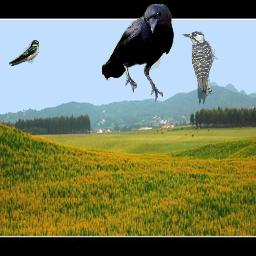Crow: (102, 4, 174, 102)
Swallow: (9, 40, 39, 66)
Woodpecker: (182, 31, 219, 107)
